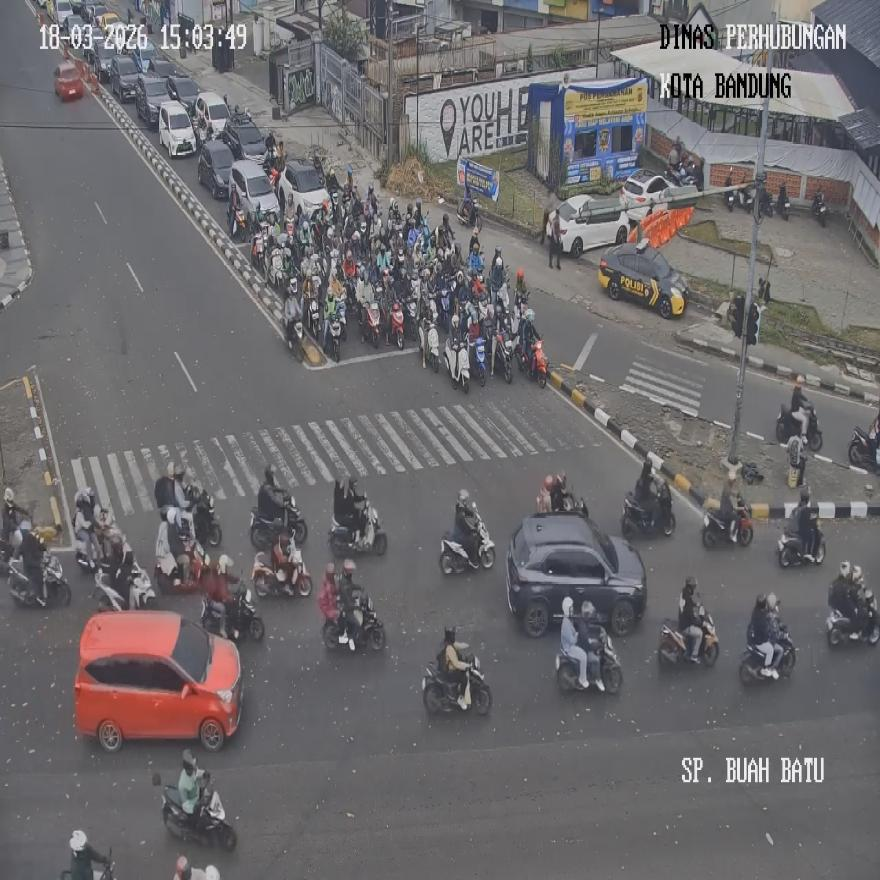Mobil: (73, 608, 242, 750), (506, 512, 646, 636), (554, 193, 631, 257)
Motor: (159, 778, 236, 850), (556, 626, 621, 693), (422, 653, 492, 715), (322, 592, 386, 652), (199, 585, 264, 643), (658, 608, 718, 668), (8, 550, 70, 606), (92, 561, 158, 612), (250, 493, 308, 551), (439, 512, 494, 573), (328, 501, 387, 557), (740, 625, 796, 683), (825, 590, 880, 647), (622, 481, 675, 538), (251, 546, 311, 596), (702, 494, 752, 547), (183, 485, 222, 548), (777, 518, 825, 567), (776, 402, 822, 452), (59, 847, 116, 880), (847, 420, 880, 469), (445, 338, 470, 392), (525, 339, 549, 388), (490, 331, 512, 383), (227, 187, 247, 241), (284, 314, 304, 361), (362, 301, 382, 347), (324, 313, 342, 363), (426, 320, 442, 372), (388, 300, 404, 350), (458, 196, 480, 232), (751, 184, 773, 218), (306, 296, 321, 341), (723, 169, 738, 212), (404, 297, 418, 342), (811, 190, 827, 228), (776, 185, 790, 221)
